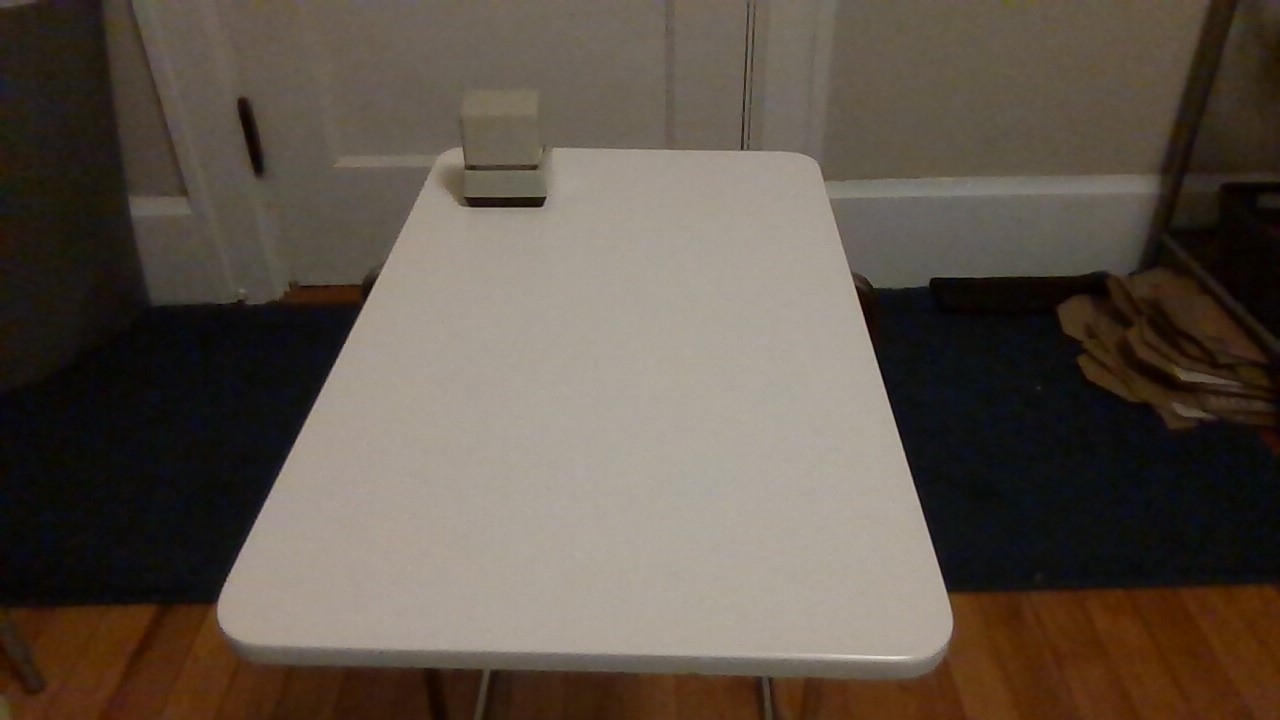Toy: (428, 74, 593, 226)
